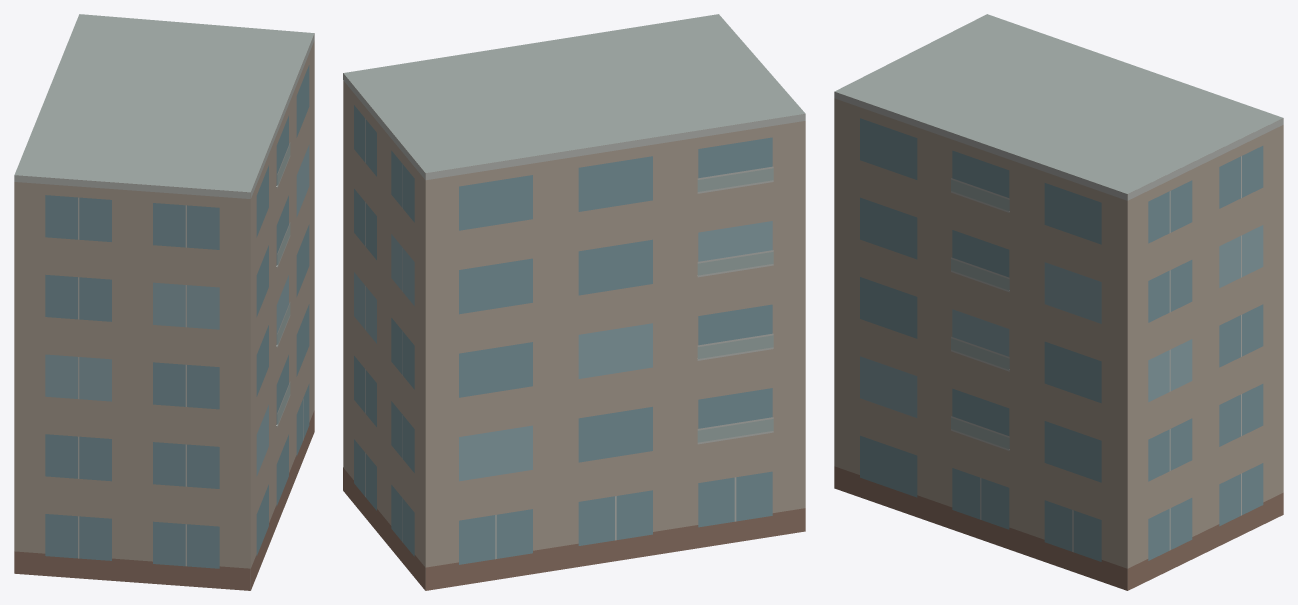
Rendered from survey-upis-32887750.glb.
The picture shows the model from 3 angles, left to right: view 1: azimuth 30°, elevation 25°; view 2: azimuth 150°, elevation 25°; view 3: azimuth 270°, elevation 25°; orthographic projection. The views are drawn at different scales.
Parts seen in each view (by area): view 1: survey-upis-32887750.tmp; view 2: survey-upis-32887750.tmp; view 3: survey-upis-32887750.tmp.
Part boxes in pixels (x1,y1,x2,y2): survey-upis-32887750.tmp: (14,14,314,590); survey-upis-32887750.tmp: (343,14,805,590); survey-upis-32887750.tmp: (834,14,1283,590).
Size of the model in its own units: 14.03 by 14.4 by 14.79.
